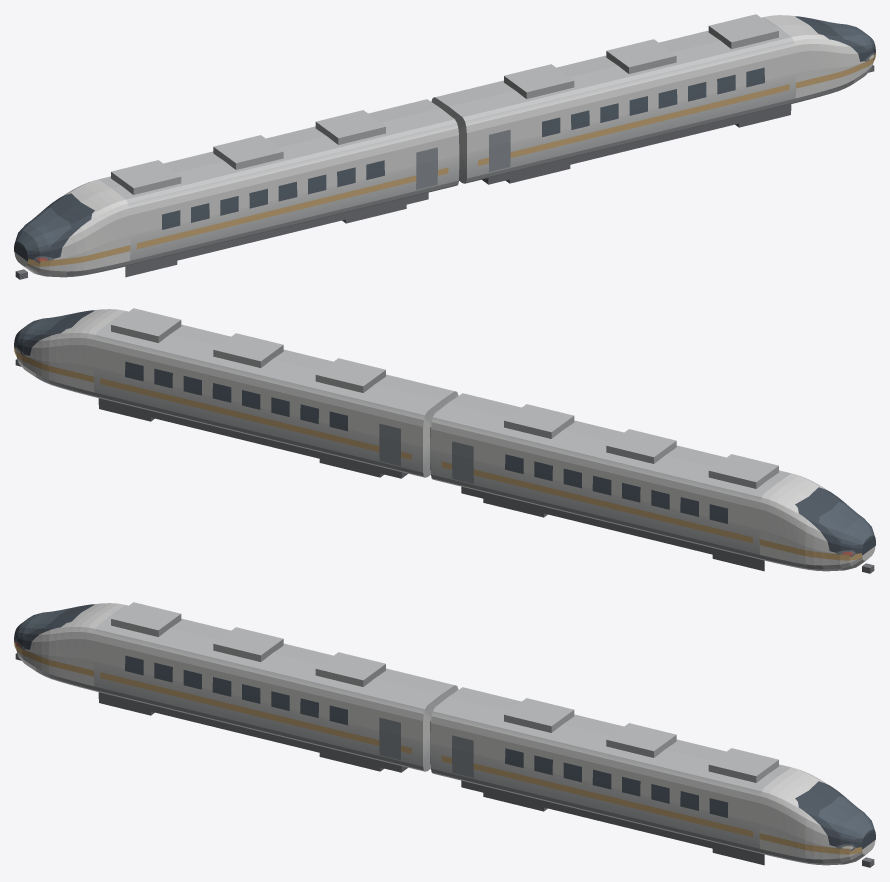
File: 01_TRA_modern_3x2-03.glb
3 renders of one model, top to bottom at view 1: azimuth 30°, elevation 25°; view 2: azimuth 150°, elevation 25°; view 3: azimuth 330°, elevation 25°, orthographic.
Size of the model in its own units: 39.48 by 3.77 by 2.96.
